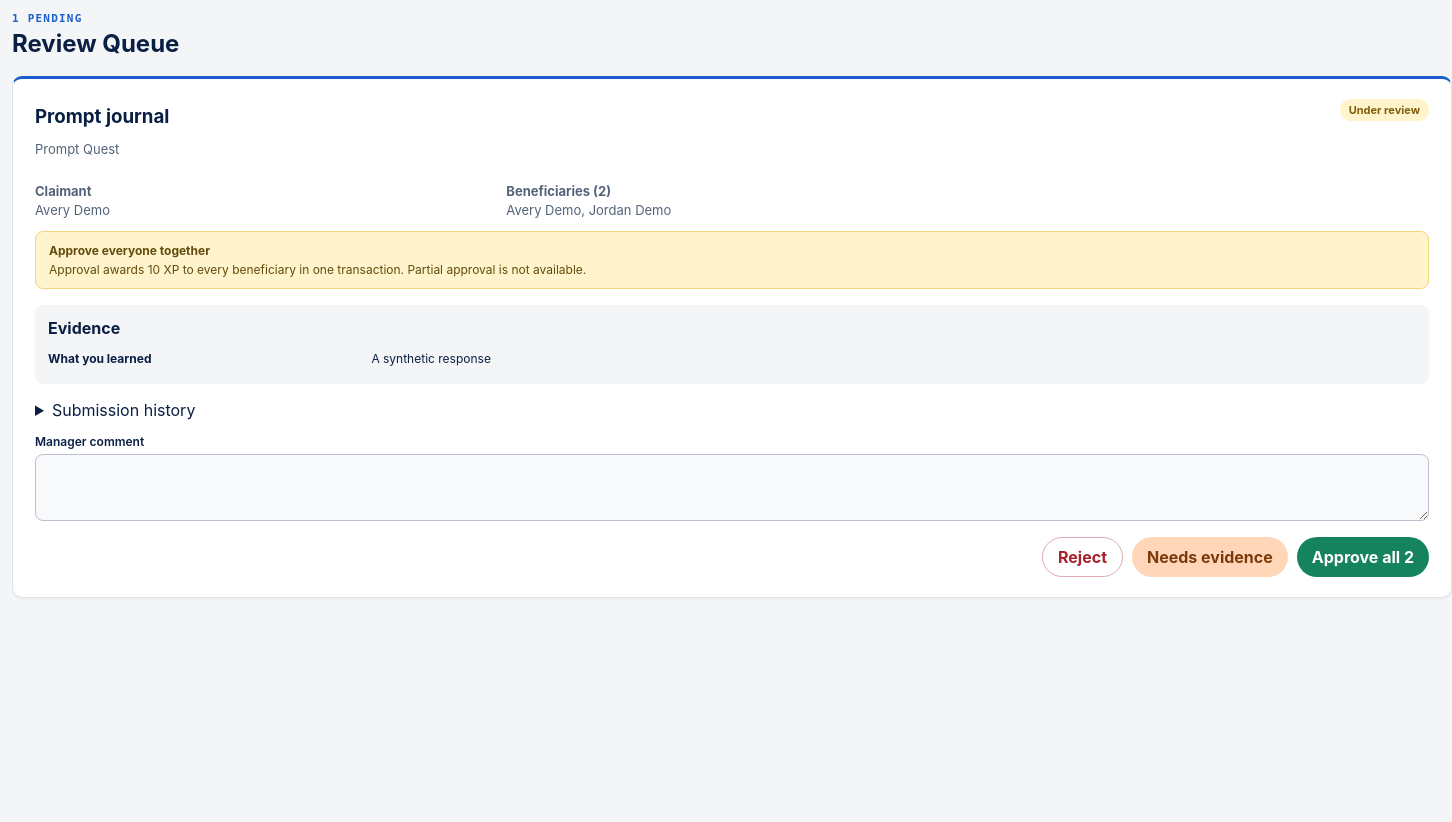
manager workflow › handles 401 without false success
Click the button "Approve all 2" at x=1363, y=557, box [1297,537,1429,577]
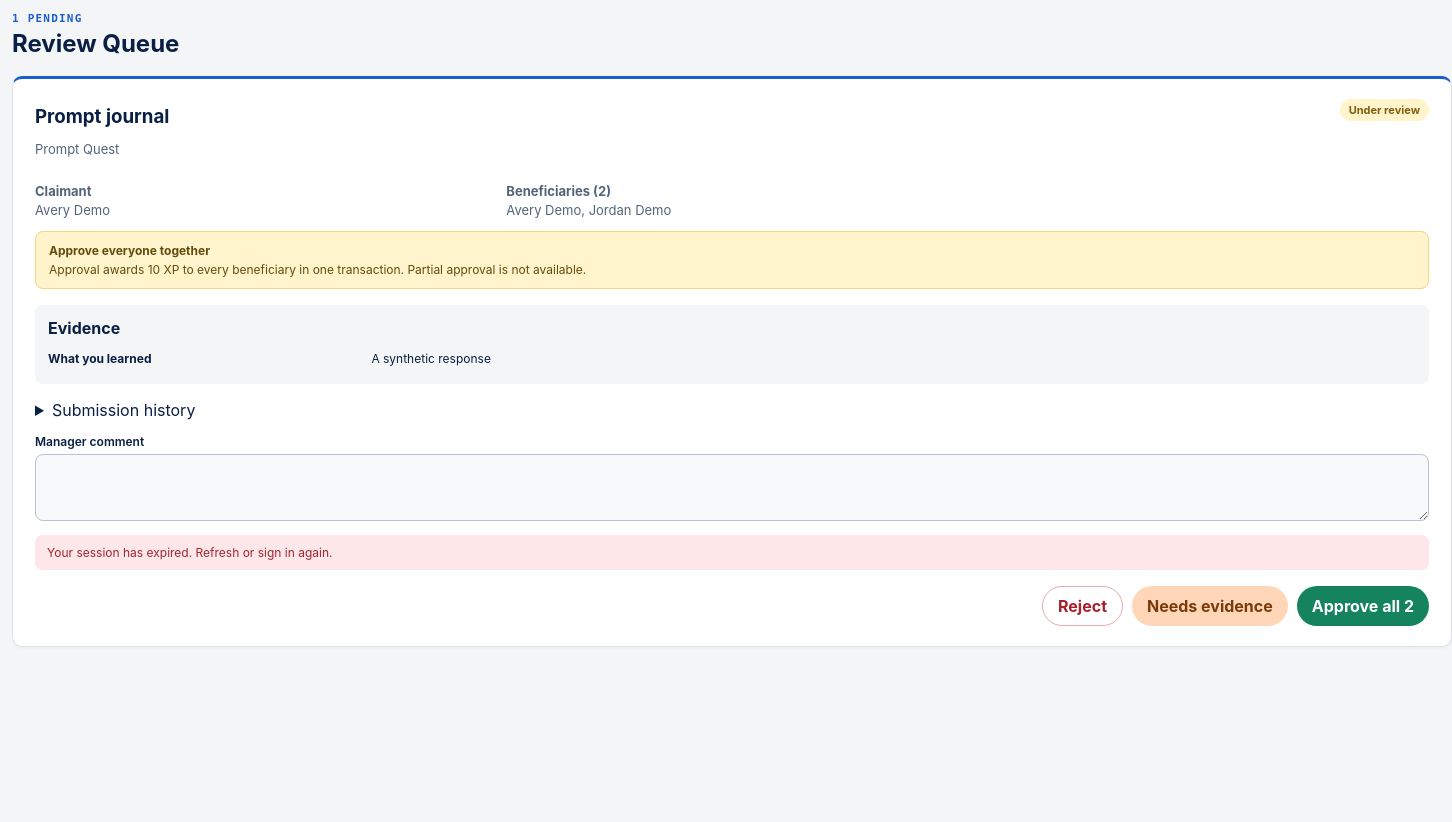
Now the message shows "session has expired", box [47,545,332,560]
